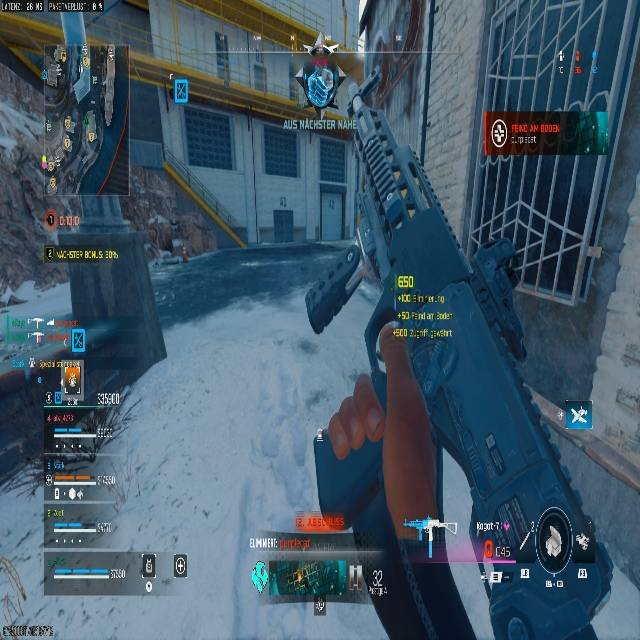player: (293, 38, 348, 119), (143, 211, 203, 267)
